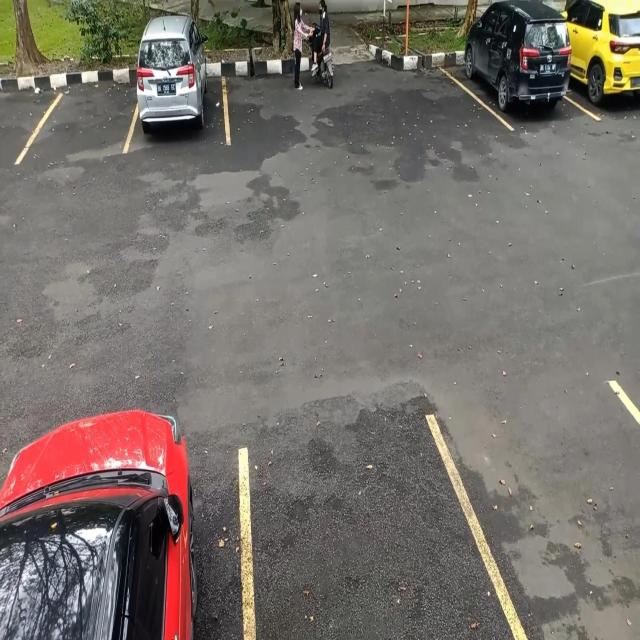empty: (240, 431, 493, 640), (438, 378, 639, 638), (36, 67, 134, 157)
occupied: (460, 9, 573, 132), (131, 35, 227, 148)
